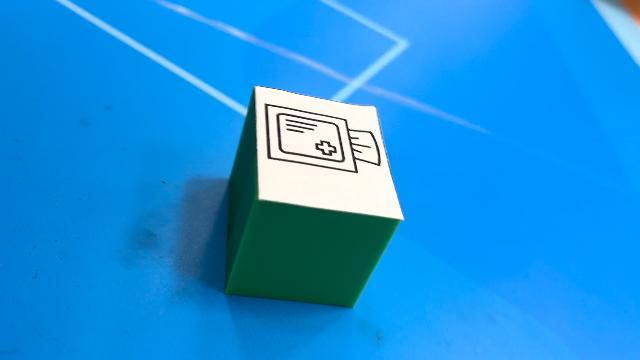napkin: (222, 83, 406, 309)
